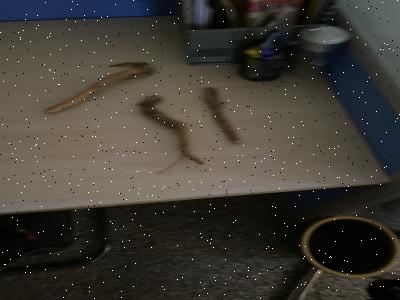Root: (45, 62, 154, 114), (137, 95, 204, 165), (203, 87, 240, 143)
